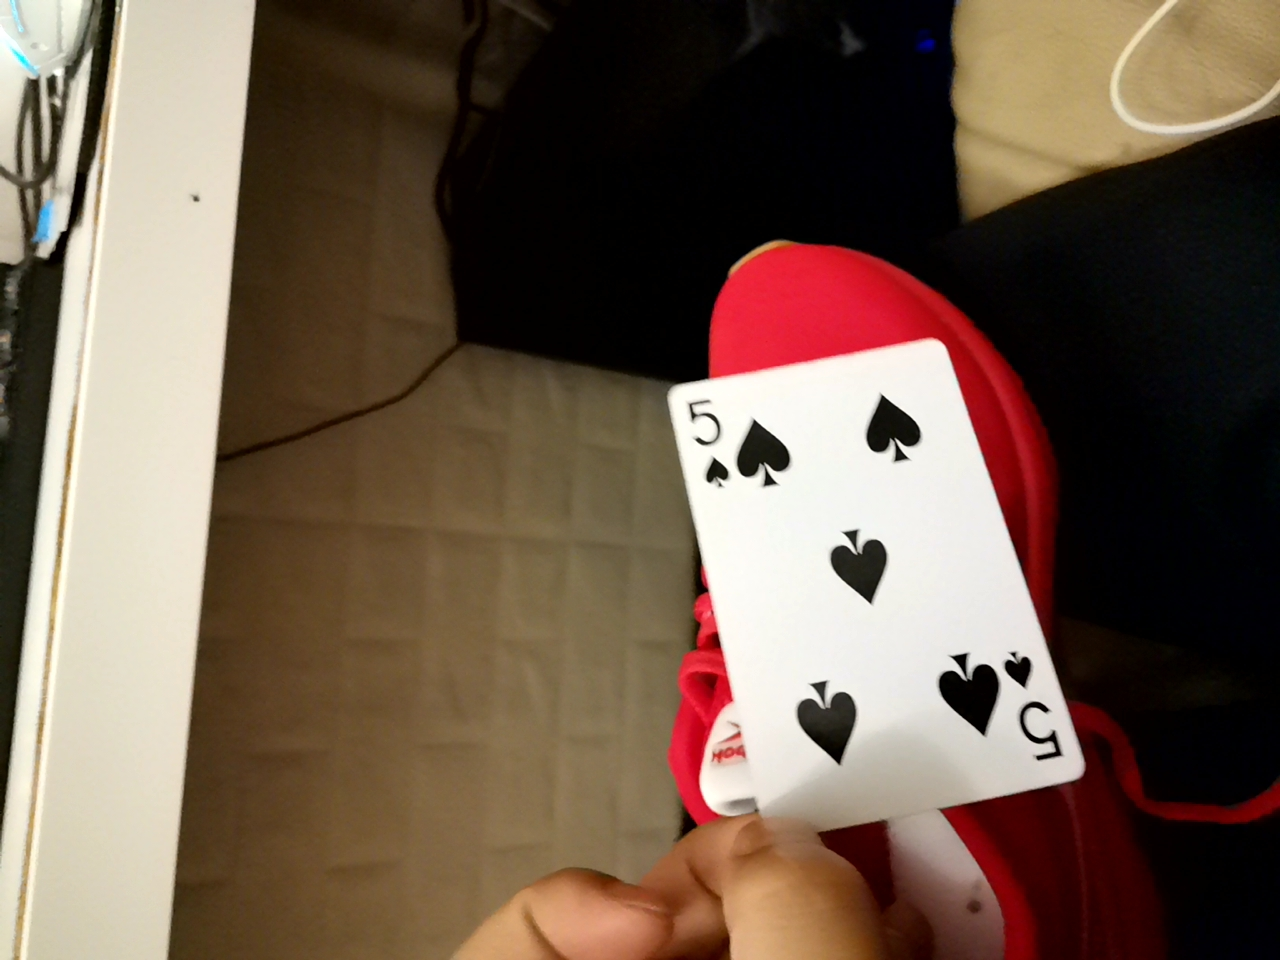ht 5: (706, 371, 1077, 861)
